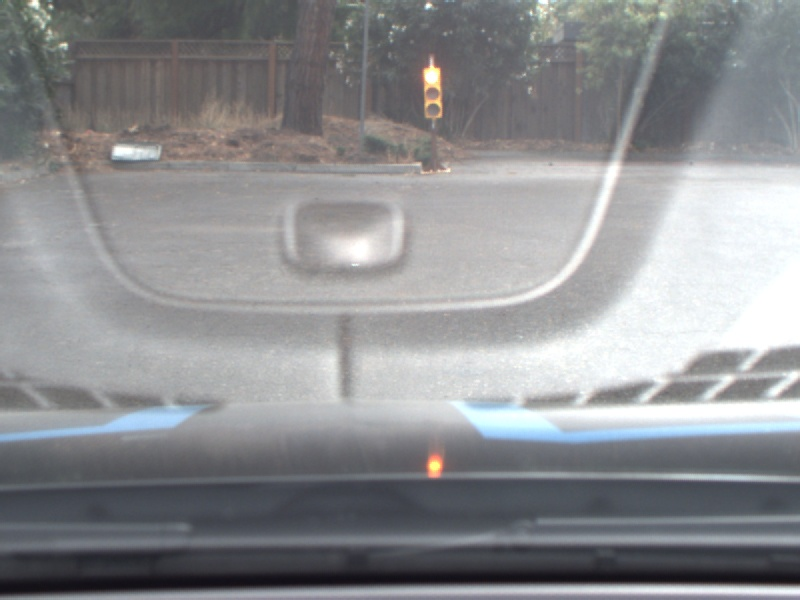red: (420, 60, 446, 120)
